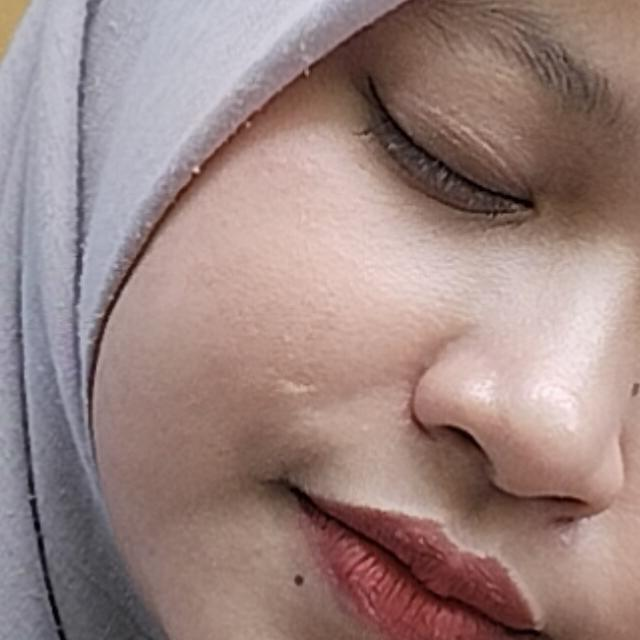tidur: (16, 268, 640, 640)
